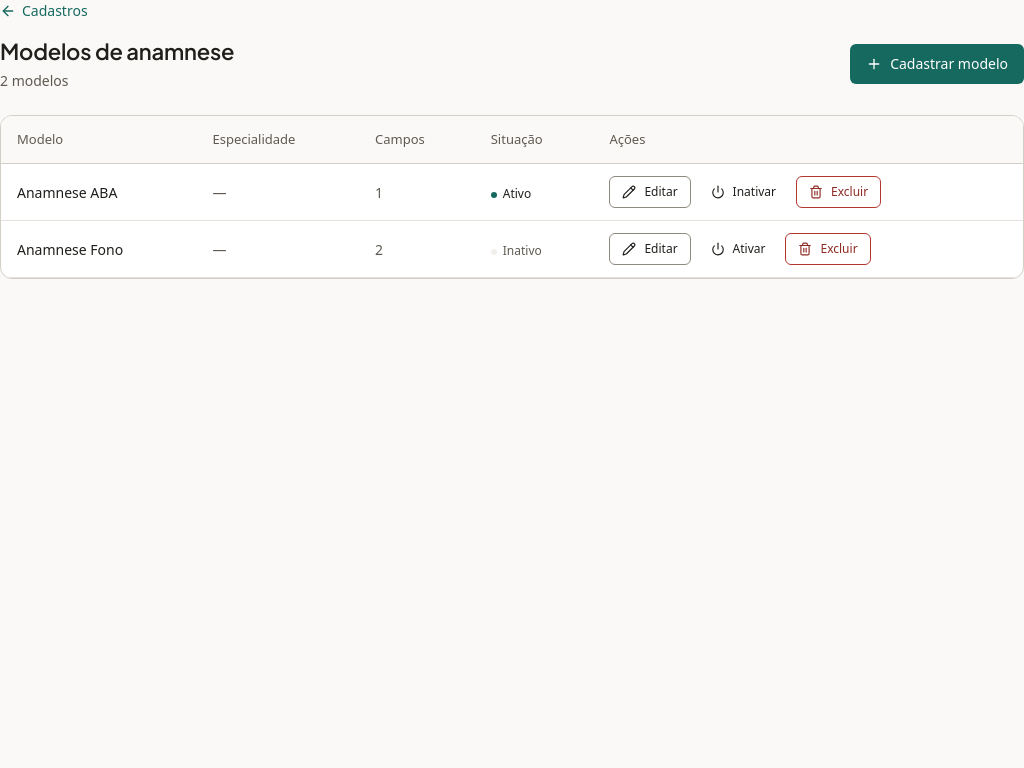
Test: Modelos de anamnese — builder de campos › deve revelar as opções só no tipo "Opções"
The width and height of the screenshot is (1024, 768).
Expected: the row "Anamnese ABA — 1 Ativo Editar Inativar Excluir" is shown, [1, 164, 1023, 221]
Click the button "Cadastrar modelo": click(937, 64) [850, 44, 1023, 84]
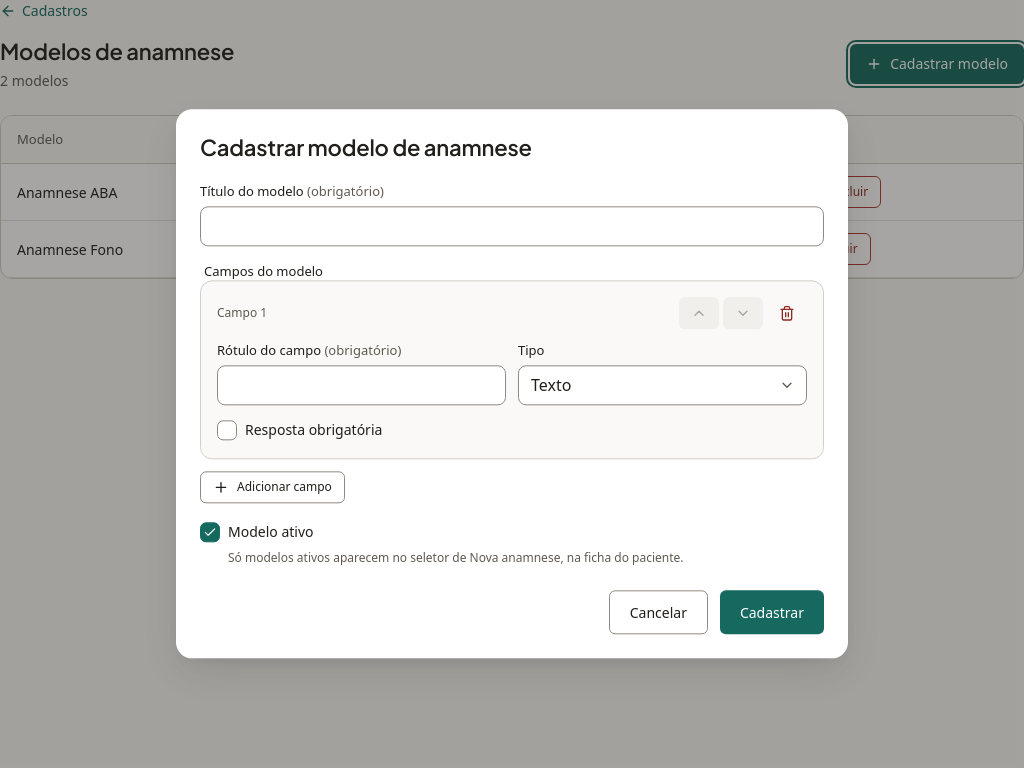
Select "Opções" in the dropdown labelled "Tipo": (662, 386) [518, 366, 807, 406]
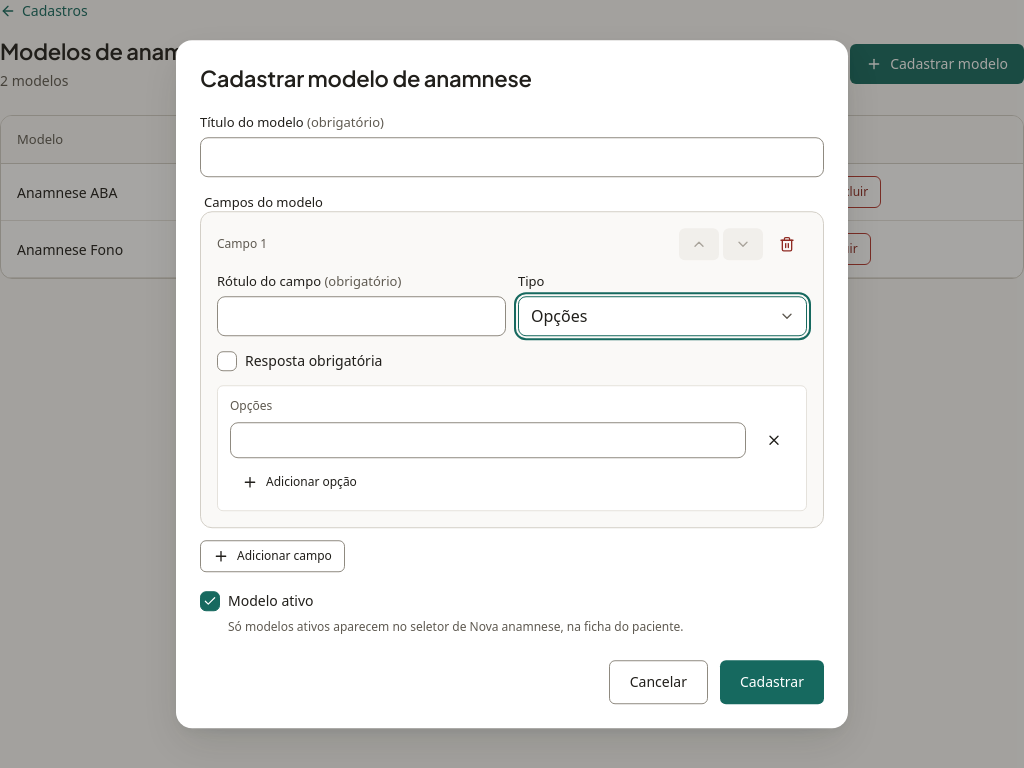
Expected: the button "Adicionar opção" is shown, [230, 467, 369, 499]
Select "Texto" in the dropdown labelled "Tipo": (662, 316) [518, 296, 807, 336]
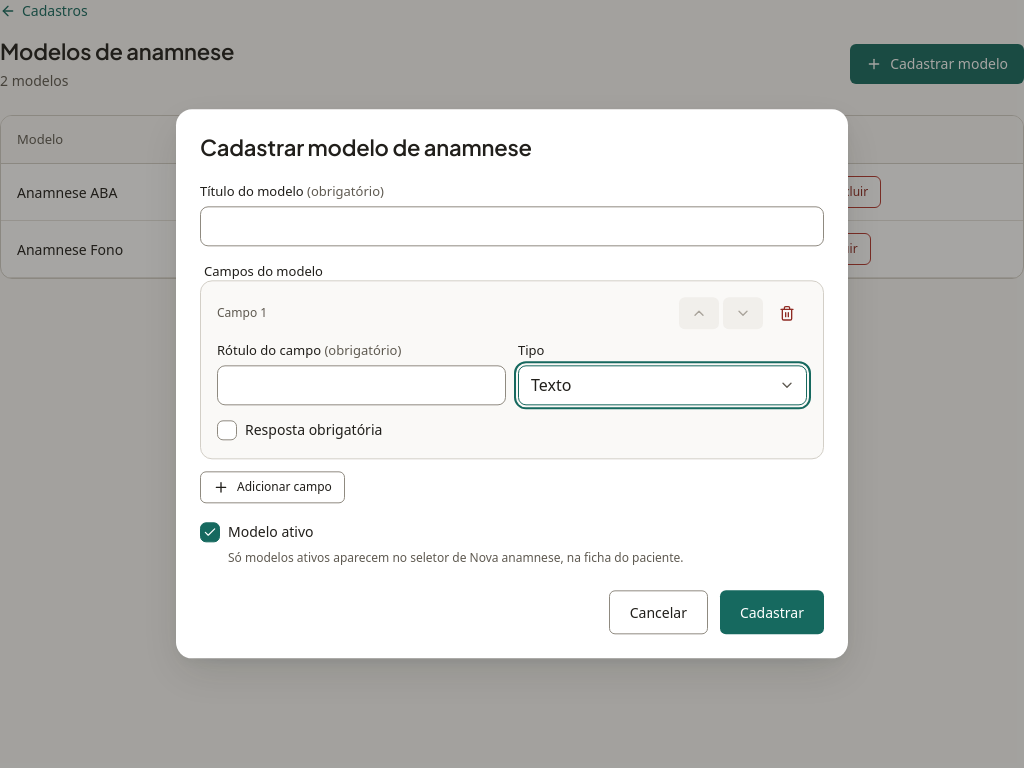
Expected: the button "Adicionar opção" is gone
